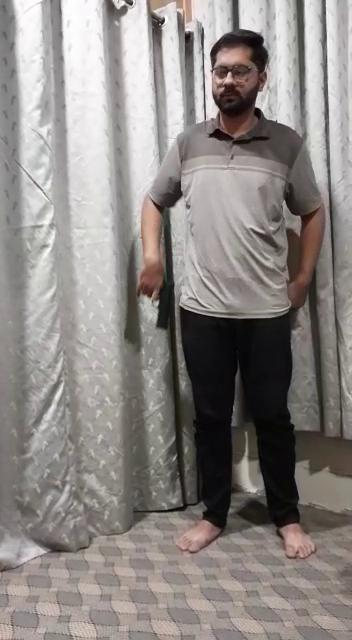criminal: (131, 29, 326, 559)
weapon: (132, 272, 177, 334)
